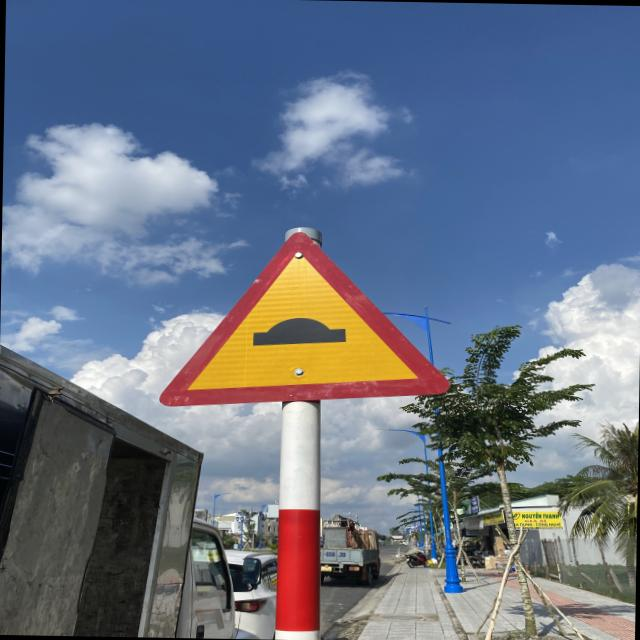Duong_Cong_Ben_Phai: (161, 230, 451, 410)
